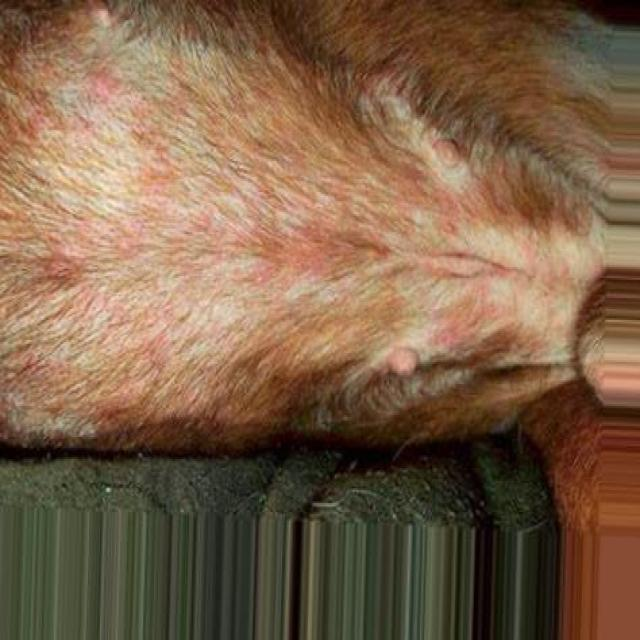di ung bo chet: (0, 2, 518, 425)
